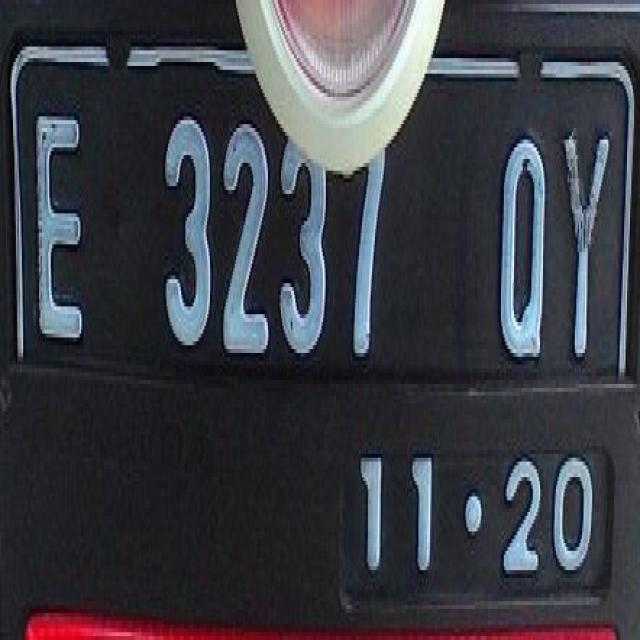plate: (9, 39, 631, 593)
